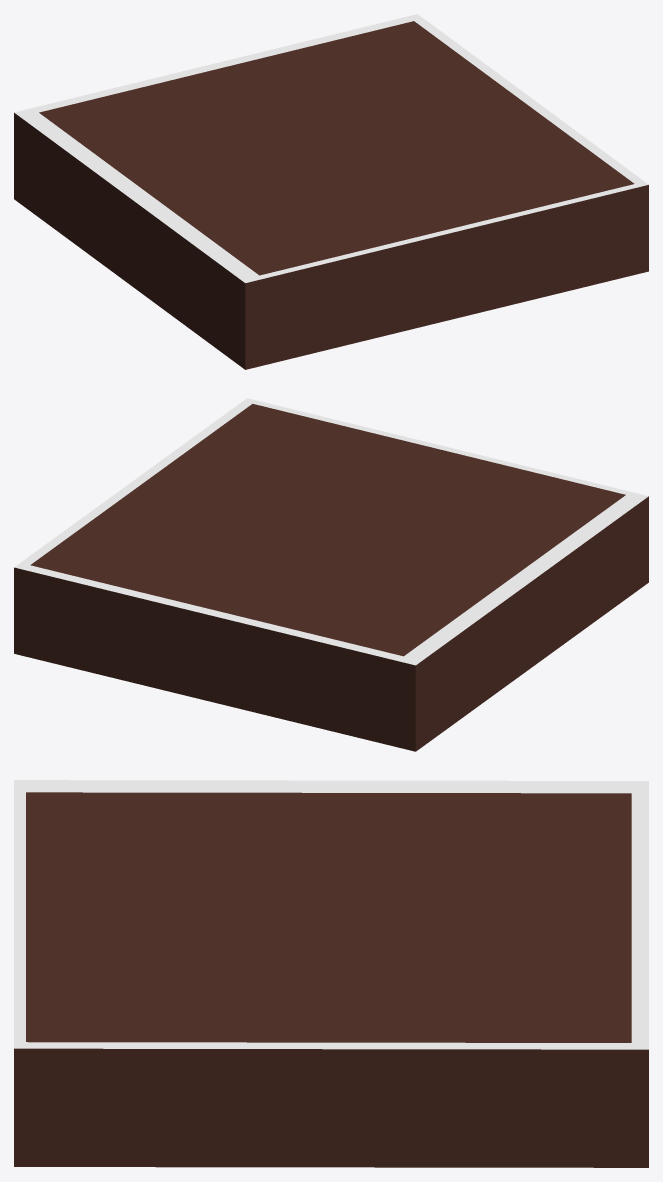
File: Soil.fbx
The picture shows the model from 3 angles, top to bottom: view 1: azimuth 30°, elevation 25°; view 2: azimuth 150°, elevation 25°; view 3: azimuth 270°, elevation 25°; orthographic projection. The views are drawn at different scales.
Visible parts, largest first — view 1: Soil; view 2: Soil; view 3: Soil.
Boxes of the visible parts, bbox=[...] form: Soil: bbox=[14, 14, 648, 369]; Soil: bbox=[14, 398, 648, 751]; Soil: bbox=[14, 780, 648, 1167].
Size of the model in its own units: 98.75 by 20.2 by 98.31.
